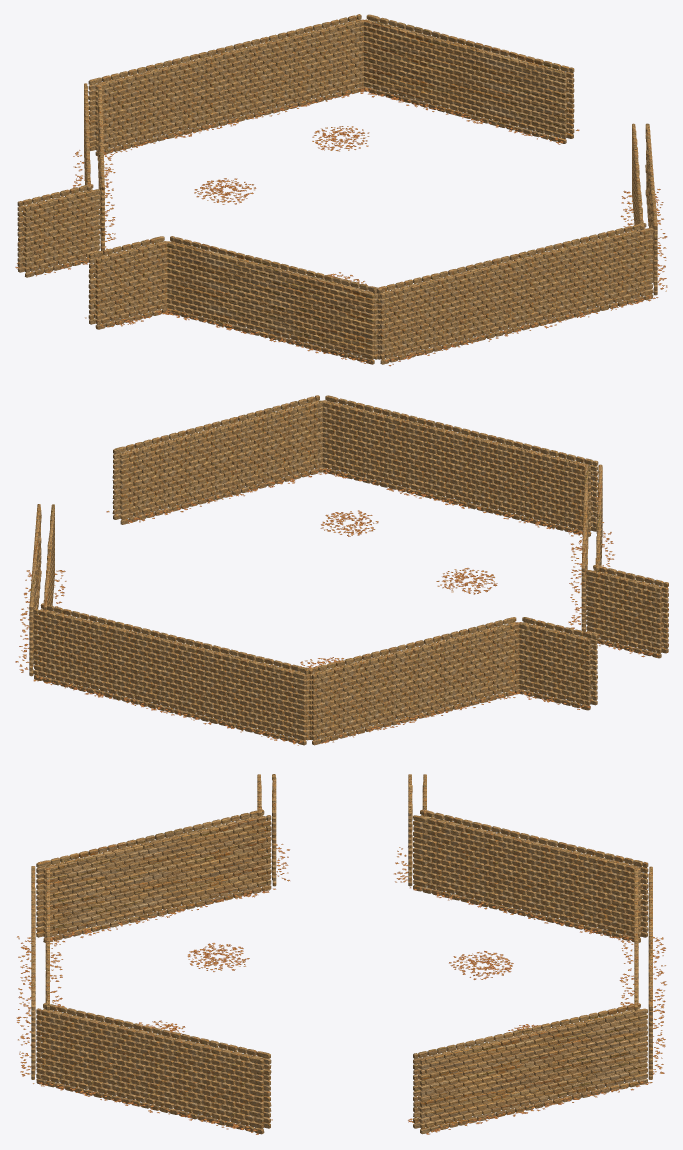
The model's file is AutumnDetailRoom08.fbx.
3 renders of one model, top to bottom at view 1: azimuth 30°, elevation 25°; view 2: azimuth 150°, elevation 25°; view 3: azimuth 270°, elevation 25°, orthographic. The views are drawn at different scales.
Visible parts, largest first — view 1: R08_AutumnStonework_LOD0, R08_AutumnLeafDrifts_LOD0; view 2: R08_AutumnStonework_LOD0, R08_AutumnLeafDrifts_LOD0; view 3: R08_AutumnStonework_LOD0, R08_AutumnLeafDrifts_LOD0.
Boxes of the visible parts, x1,y1,x2,y2 form: R08_AutumnStonework_LOD0: [17, 14, 657, 364]; R08_AutumnLeafDrifts_LOD0: [15, 88, 667, 366]; R08_AutumnStonework_LOD0: [29, 395, 668, 745]; R08_AutumnLeafDrifts_LOD0: [15, 468, 659, 745]; R08_AutumnStonework_LOD0: [31, 774, 652, 1134]; R08_AutumnLeafDrifts_LOD0: [16, 844, 666, 1134].
Size of what is drawn, in the model's own units: 46.04 by 5.47 by 43.46.
